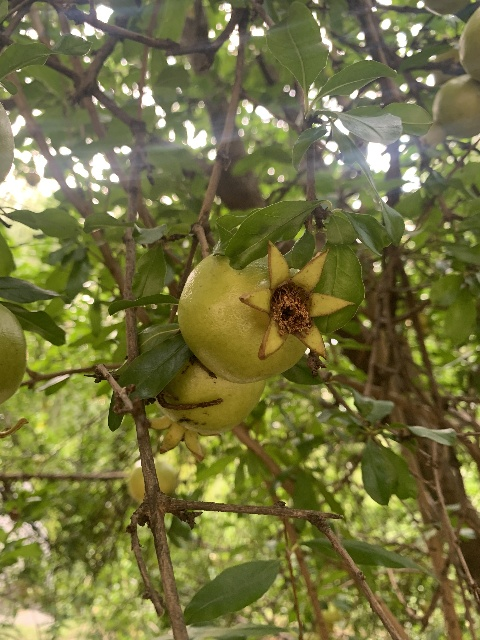mid-growth: (177, 239, 355, 384), (148, 360, 265, 461), (420, 75, 480, 150), (128, 460, 174, 502)
